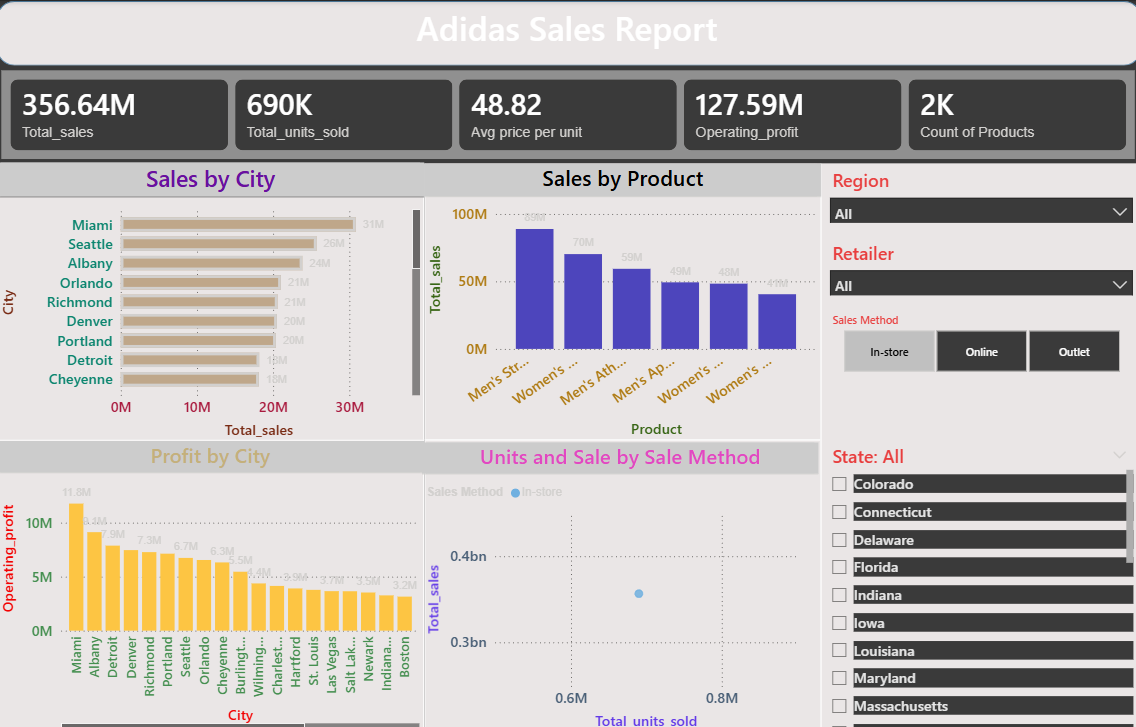

What the dashboard file says about the page in this screenshot:
{"tool":"powerbi","page":{"name":"Dashboard4","canvas":[1280,820],"ordinal":4},"visuals":[{"type":"shape","box":[0,0,1279.3,72.3],"z":0},{"type":"shape","box":[5.7,72.3,1269.4,86.4],"z":1000},{"type":"shape","box":[0,167.2,477.4,324.4],"z":2000},{"type":"shape","box":[0,490.2,477.4,330.1],"z":3000},{"type":"shape","box":[477.4,165.8,443.4,324.4],"z":4000},{"type":"shape","box":[477.4,490.2,443.4,330.1],"z":5000},{"type":"shape","box":[920.9,165.8,358.4,654.5],"z":6000},{"type":"textbox","box":[100.6,0,1083.8,73],"z":7000},{"type":"cardVisual","fields":{"Data":["Data Sales Adidas.Total_sales","Data Sales Adidas.Total_units_sold","Data Sales Adidas.Avg price per unit","Data Sales Adidas.Operating_profit","Data Sales Adidas.Count of Products"]},"box":[0,72.3,1279.3,109.1],"z":8000},{"type":"barChart","title":"Sales by City ","fields":{"Category":["Data Sales Adidas.City"],"Y":["Data Sales Adidas.Total_sales"]},"box":[0,180.6,477.4,312.9],"z":9000},{"type":"clusteredColumnChart","title":"Sales by Product","fields":{"Category":["Data Sales Adidas.Product"],"Y":["Data Sales Adidas.Total_sales"]},"box":[477.4,182.3,443.5,309.7],"z":10000},{"type":"slicer","fields":{"Values":["Data Sales Adidas.Region"]},"box":[920.9,181.3,358.4,66.6],"z":11000},{"type":"slicer","fields":{"Values":["Data Sales Adidas.Retailer"]},"box":[920.9,262.1,358.4,66.6],"z":12000},{"type":"slicer","fields":{"Values":["Data Sales Adidas.Sales Method"]},"box":[921,343.5,358.1,77.4],"z":13000},{"type":"slicer","fields":{"Values":["Data Sales Adidas.State"]},"box":[921,490.3,354.8,329],"z":14000},{"type":"clusteredColumnChart","title":"Profit by City","fields":{"Category":["Data Sales Adidas.City"],"Y":["Data Sales Adidas.Operating_profit"]},"box":[0,491.9,477.4,327.4],"z":15000},{"type":"scatterChart","title":"Units and Sale by Sale Method","fields":{"Category":["Data Sales Adidas.Sales Method"],"Series":["Data Sales Adidas.Sales Method"],"X":["Data Sales Adidas.Total_units_sold"],"Y":["Data Sales Adidas.Total_sales"]},"box":[475.8,493.5,443.5,325.8],"z":16000}]}

Visuals, with their boxes in screenshot pixels (x1, y1, x2, y2), scaled from the page's 1280x820 canvas onto the 1136x727 screenshot:
shape: x1=0, y1=0, x2=1135, y2=64
shape: x1=5, y1=64, x2=1132, y2=141
shape: x1=0, y1=148, x2=424, y2=436
shape: x1=0, y1=435, x2=424, y2=726
shape: x1=424, y1=147, x2=817, y2=435
shape: x1=424, y1=435, x2=817, y2=726
shape: x1=817, y1=147, x2=1135, y2=726
textbox: x1=89, y1=0, x2=1051, y2=65
cardVisual - Data Sales Adidas.Total_sales x Data Sales Adidas.Total_units_sold: x1=0, y1=64, x2=1135, y2=161
"Sales by City " barChart: x1=0, y1=160, x2=424, y2=438
"Sales by Product" clusteredColumnChart: x1=424, y1=162, x2=817, y2=436
slicer - Data Sales Adidas.Region: x1=817, y1=161, x2=1135, y2=220
slicer - Data Sales Adidas.Retailer: x1=817, y1=232, x2=1135, y2=291
slicer - Data Sales Adidas.Sales Method: x1=817, y1=305, x2=1135, y2=373
slicer - Data Sales Adidas.State: x1=817, y1=435, x2=1132, y2=726
"Profit by City" clusteredColumnChart: x1=0, y1=436, x2=424, y2=726
"Units and Sale by Sale Method" scatterChart: x1=422, y1=438, x2=816, y2=726
